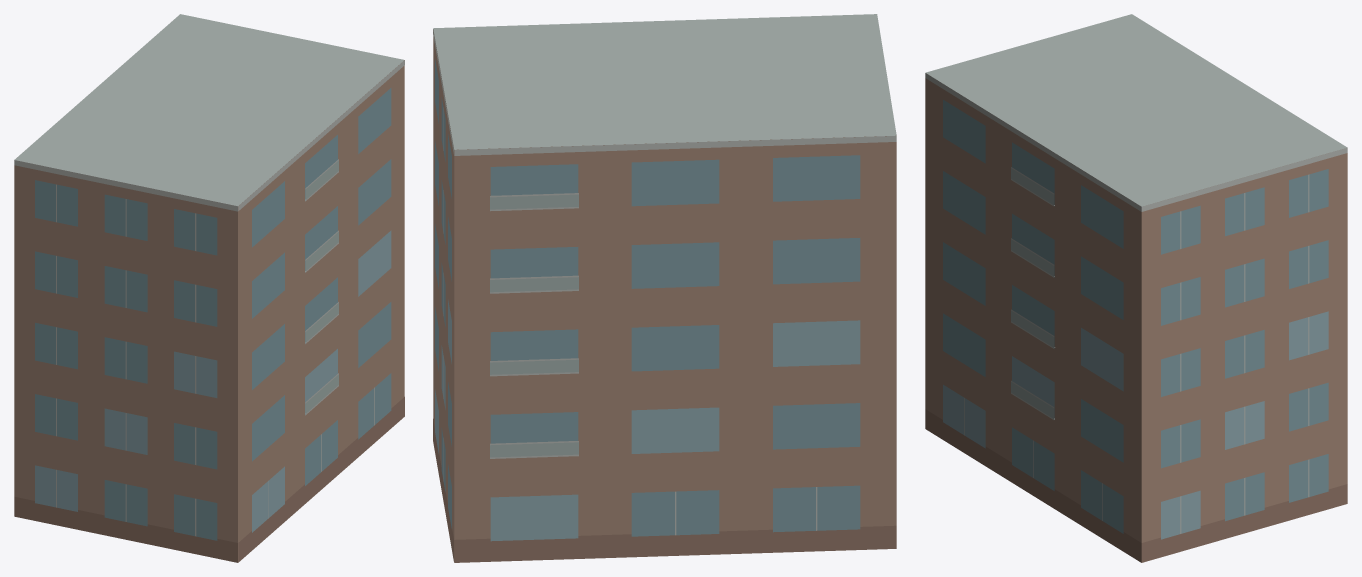
The model's file is survey-upis-32842855.glb.
3 views of the same model, side by side, from view 1: azimuth 30°, elevation 25°; view 2: azimuth 150°, elevation 25°; view 3: azimuth 270°, elevation 25° (orthographic). The views are drawn at different scales.
Visible parts, largest first — view 1: survey-upis-32842855.tmp; view 2: survey-upis-32842855.tmp; view 3: survey-upis-32842855.tmp.
Part boxes in pixels (bbox=[...]): survey-upis-32842855.tmp: bbox=[14, 14, 404, 562]; survey-upis-32842855.tmp: bbox=[433, 14, 896, 562]; survey-upis-32842855.tmp: bbox=[925, 14, 1347, 562].
Size of the model in its own units: 19.04 by 16.4 by 17.64.
